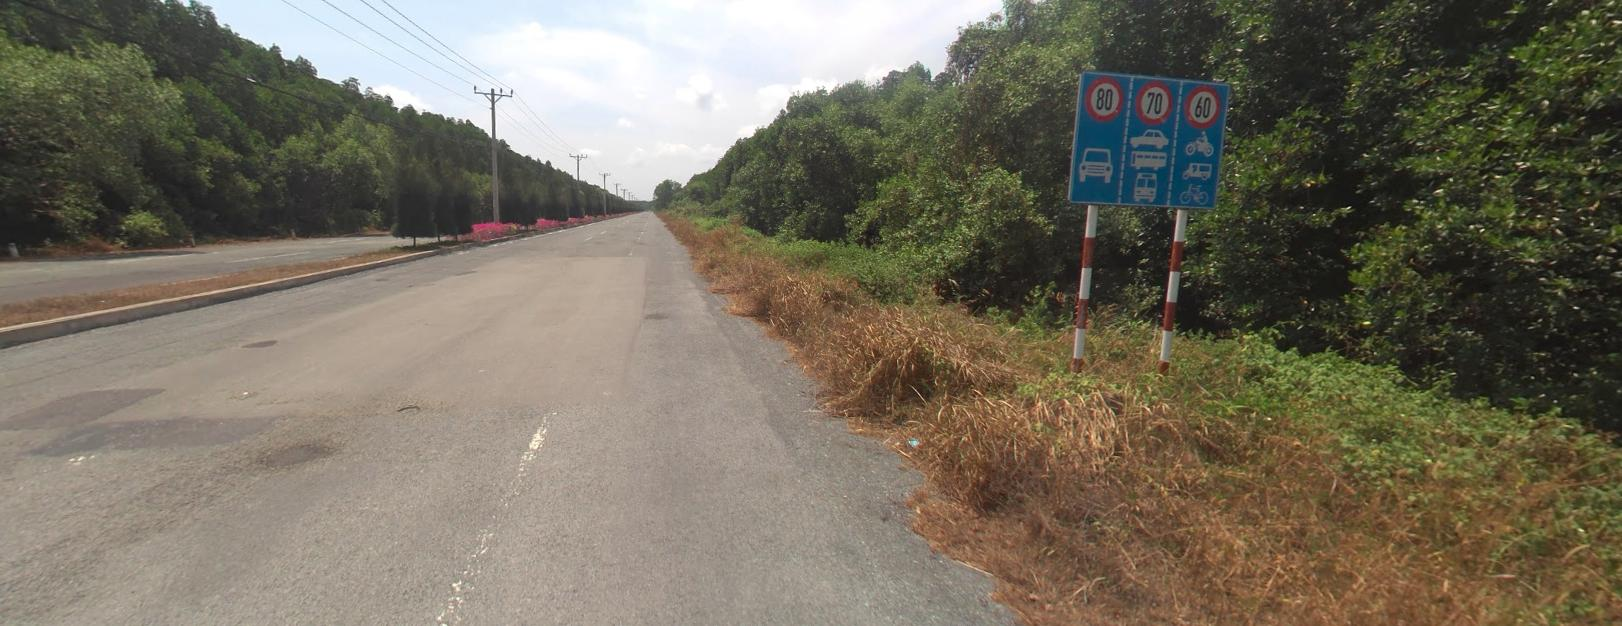Gioi han toc do: (1085, 74, 1122, 121), (1135, 79, 1172, 124), (1184, 84, 1220, 128)
